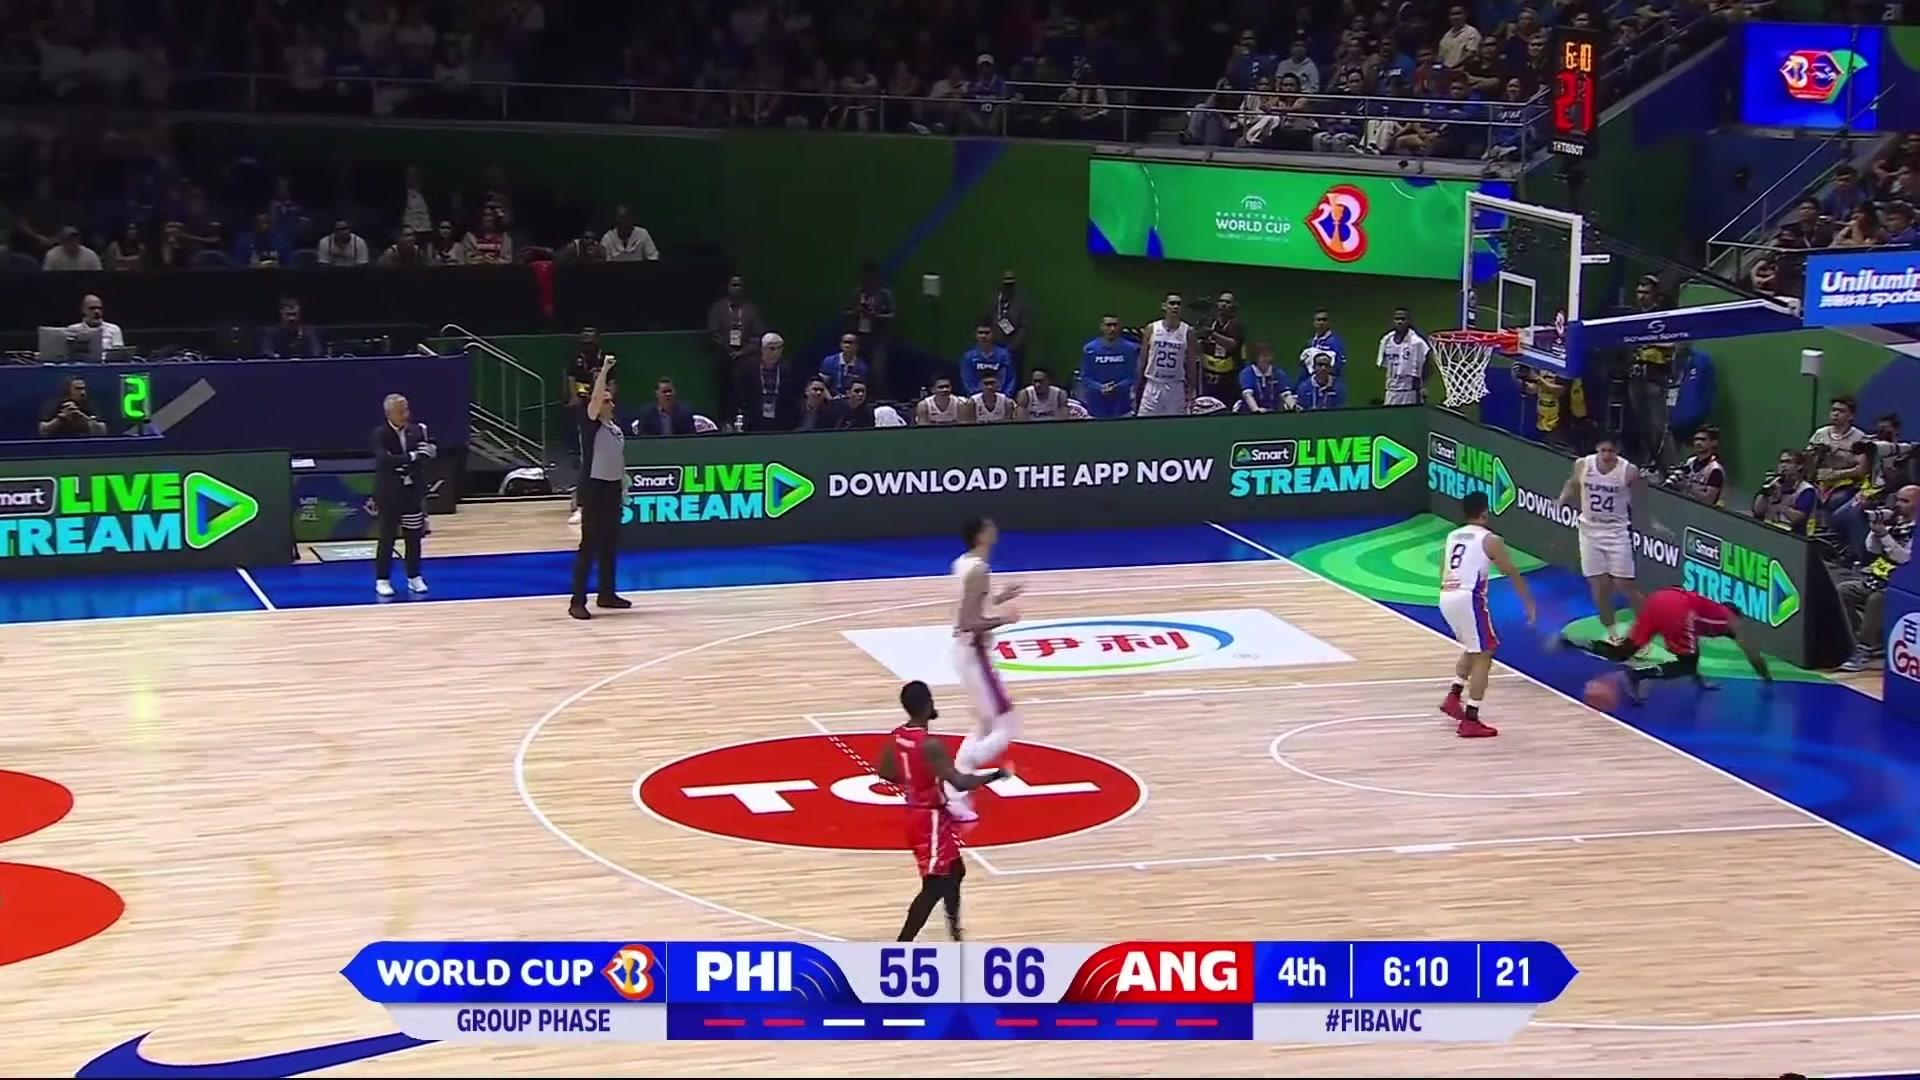foul: (1378, 479, 1753, 727)
